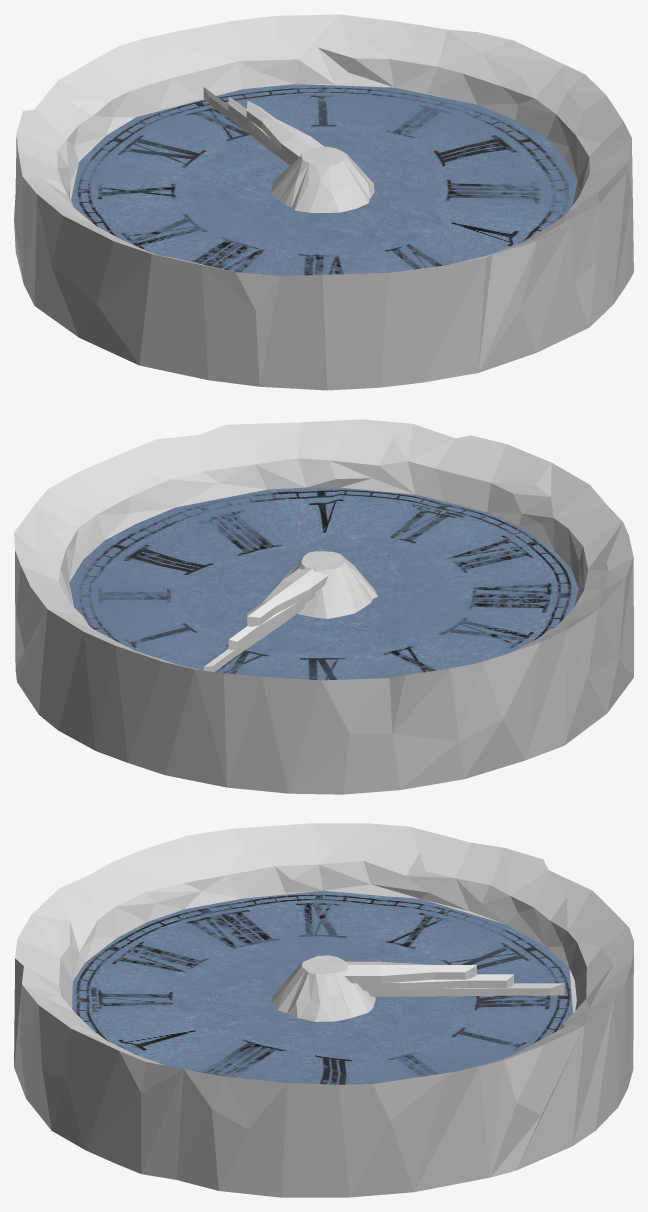
Rendered from ui_clock_v2.fbx.
3 renders of one model, top to bottom at view 1: azimuth 30°, elevation 25°; view 2: azimuth 150°, elevation 25°; view 3: azimuth 270°, elevation 25°, orthographic.
Visible parts, largest first — view 1: ClockBAse, ClockHour, ClockSeconds, ClockMinute; view 2: ClockBAse, ClockHour, ClockMinute, ClockSeconds; view 3: ClockBAse, ClockHour, ClockSeconds, ClockMinute.
Boxes of the visible parts, box(x1,y1,x2,y2) form: ClockBAse: box(14, 14, 633, 390); ClockHour: box(246, 101, 323, 160); ClockSeconds: box(203, 87, 292, 165); ClockMinute: box(228, 97, 294, 163); ClockBAse: box(14, 419, 633, 794); ClockHour: box(246, 568, 328, 626); ClockMinute: box(228, 592, 315, 650); ClockSeconds: box(203, 604, 305, 671); ClockBAse: box(14, 823, 633, 1197); ClockHour: box(345, 961, 476, 983); ClockSeconds: box(367, 983, 564, 996); ClockMinute: box(358, 974, 513, 990).
Size of the model in its own units: 0.8578 by 0.1757 by 0.8582.
